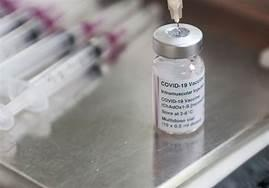Syringe: (147, 21, 211, 144)
